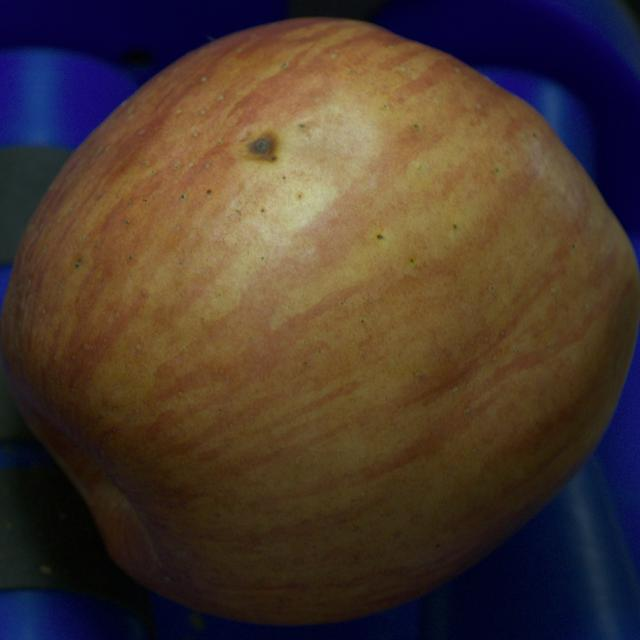apple: (0, 19, 639, 625)
pest: (251, 137, 272, 156), (75, 258, 81, 268), (378, 234, 383, 239)
